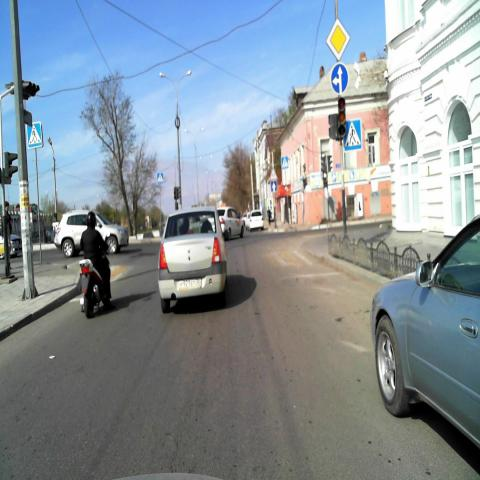2_1: (325, 16, 350, 62)
4_1_5: (330, 63, 348, 94)
5_19_1: (344, 119, 362, 150), (27, 120, 44, 149), (157, 172, 164, 184)
5_5: (271, 180, 277, 191)
